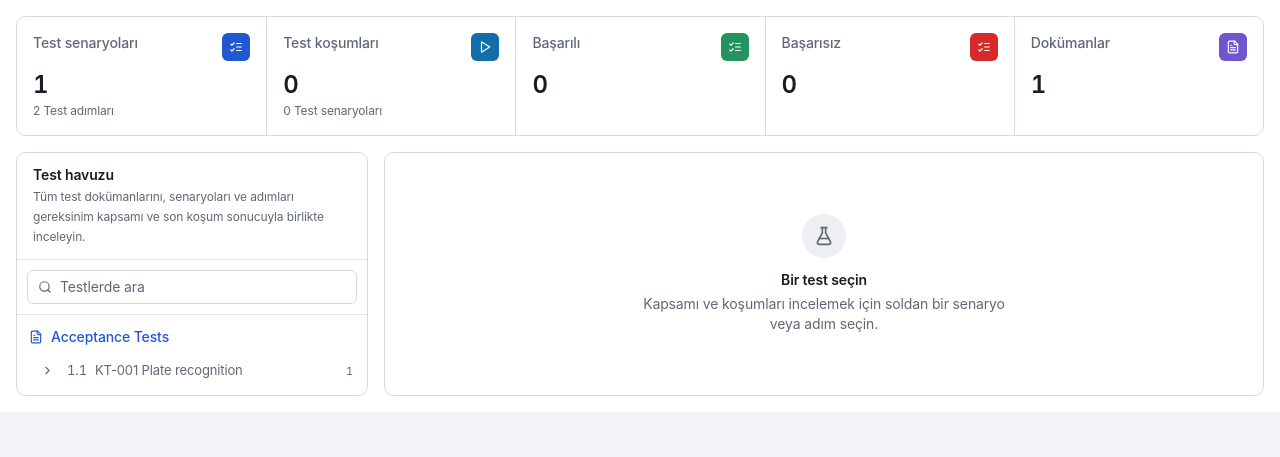
Test: TestRepositoryPage › reveals nested steps only after expanding a scenario
Expected: the button with test id "repository-scenario-1.1" is shown, [61,355,359,386]
Step 1. Click the button named "Tüm grupları aç" → [47, 371], box [37,361,57,381]
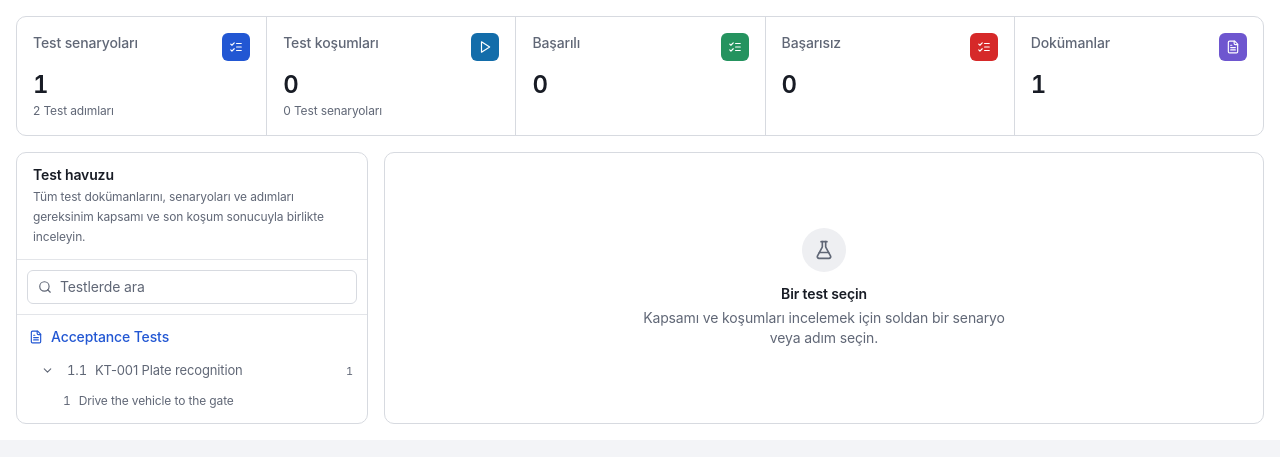
Now the button with test id "repository-step-1.1.1" shows "Drive the vehicle to the gate", box [17,386,367,414]
